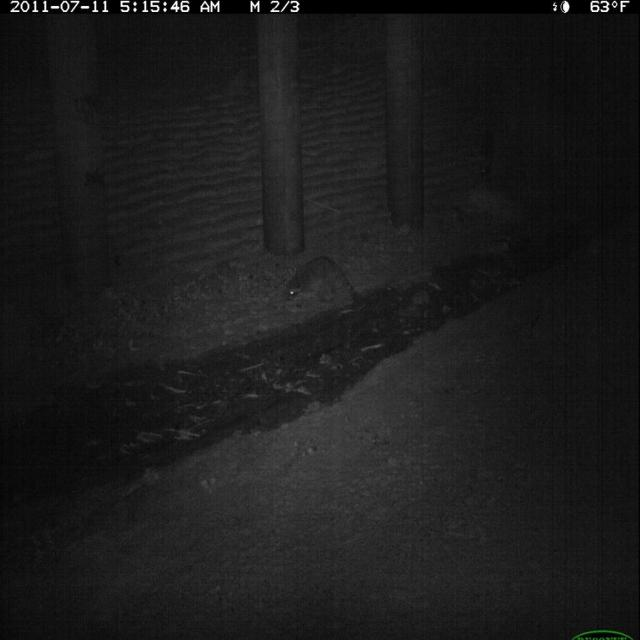raccoon: (283, 245, 369, 318)
